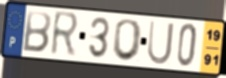0: (177, 22, 201, 70)
3: (87, 16, 111, 60)
B: (21, 9, 53, 55)
O: (110, 18, 144, 63)
R: (49, 10, 81, 60)
U: (146, 19, 176, 66)
